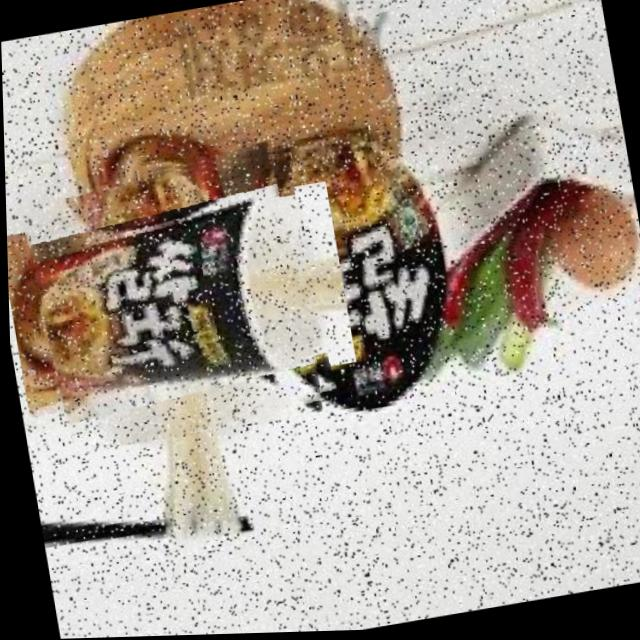Miscellaneous: (20, 145, 332, 456)
